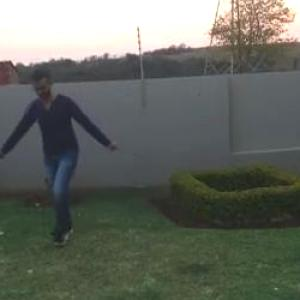land: (1, 58, 116, 238)
